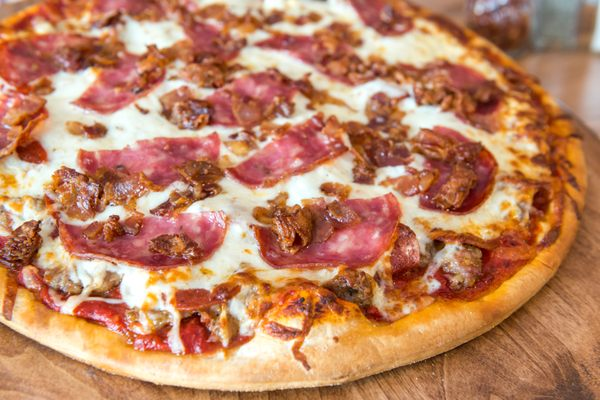sandwich: (0, 0, 594, 385)
